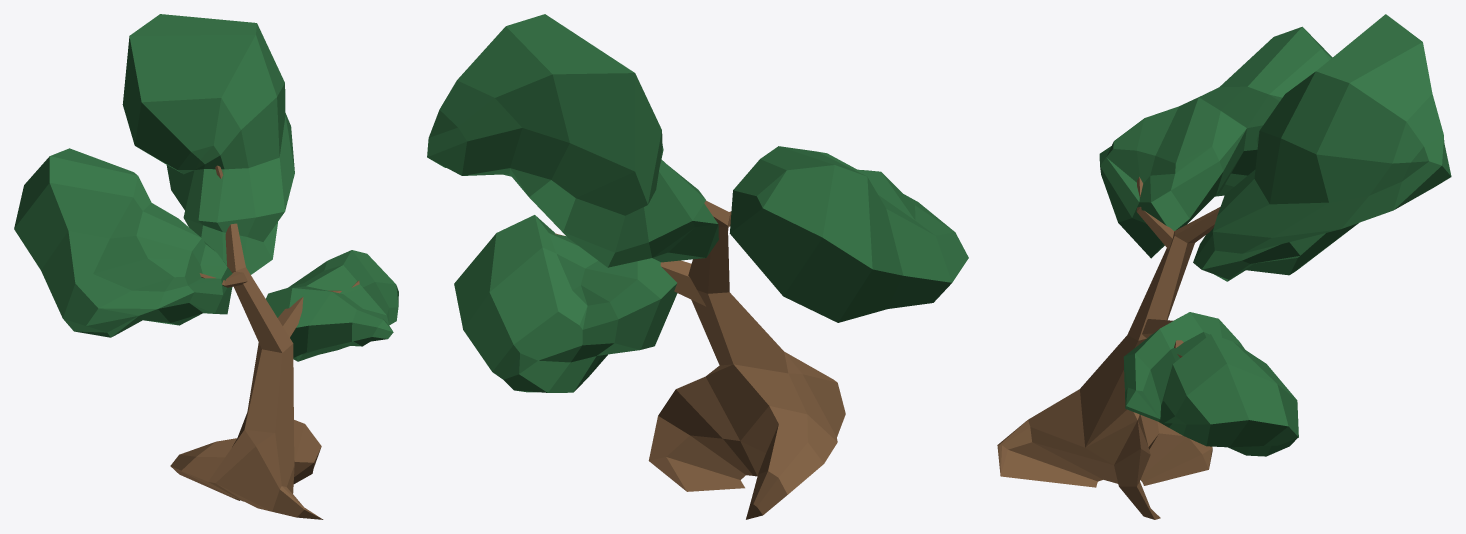
Rendered from Tree_Cliff1.fbx.
The picture shows the model from 3 angles, left to right: view 1: azimuth 30°, elevation 25°; view 2: azimuth 150°, elevation 25°; view 3: azimuth 270°, elevation 25°; orthographic projection. The views are drawn at different scales.
Visible parts, largest first — view 1: Tree.Cliffside.1; view 2: Tree.Cliffside.1; view 3: Tree.Cliffside.1.
Part boxes in pixels (left/top/right/bottom): Tree.Cliffside.1: left=14, top=14, right=398, bottom=519; Tree.Cliffside.1: left=427, top=14, right=968, bottom=519; Tree.Cliffside.1: left=997, top=14, right=1451, bottom=519.
Size of the model in its own units: 3927 by 4282 by 3735.
